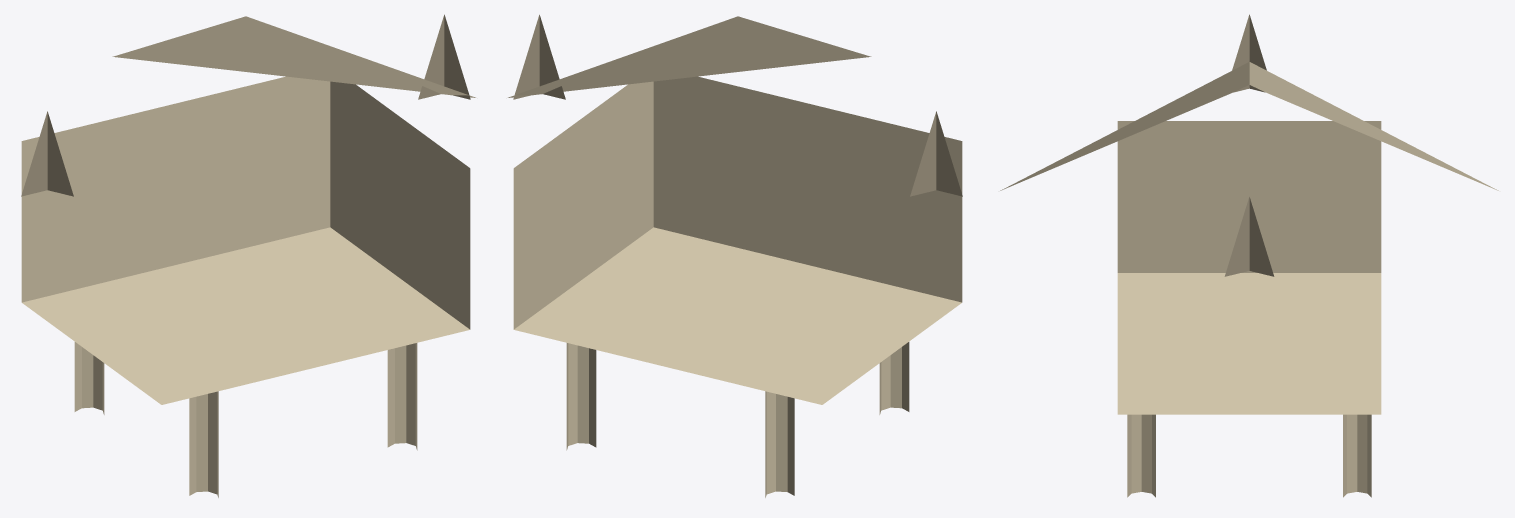
File: minang-gadang.glb
3 renders of one model, left to right at view 1: azimuth 30°, elevation 25°; view 2: azimuth 150°, elevation 25°; view 3: azimuth 270°, elevation 25°, orthographic. The views are drawn at different scales.
Parts seen in each view (by area): view 1: minang-gadang.glb; view 2: minang-gadang.glb; view 3: minang-gadang.glb.
Part boxes in pixels (x1,y1,x2,y2): minang-gadang.glb: [21, 14, 475, 497]; minang-gadang.glb: [508, 14, 962, 497]; minang-gadang.glb: [1000, 14, 1498, 497].
Bounding box in the file's own units: 2.1 × 1.8 × 2.1.
